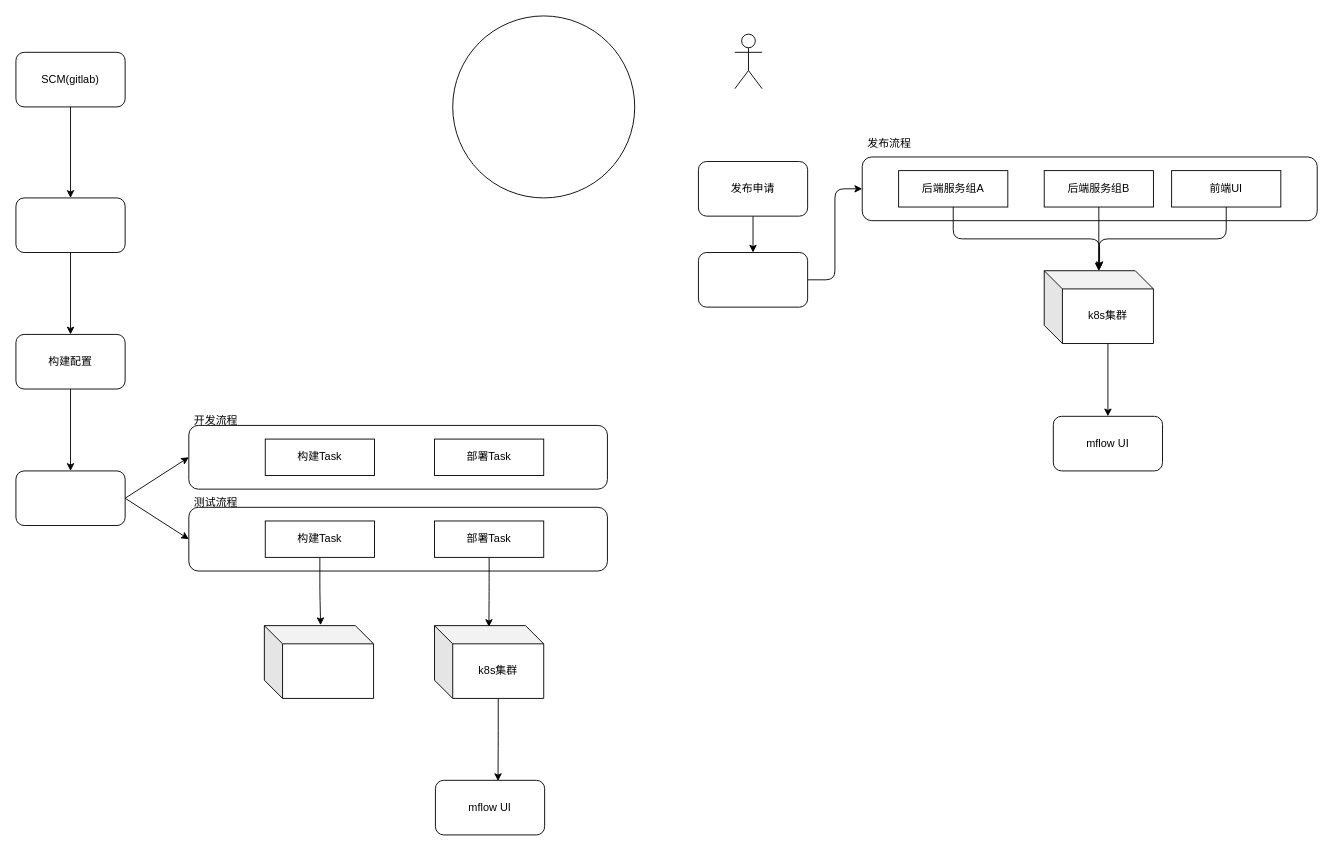
This 1333x851 diagram has some shape labels left out. Each missing label, with the centre of its shape:
"Actor" goes at (748,61).
"mcenter 应用中心" goes at (543,106).
"制品库" goes at (318,661).
"审核通过" goes at (753,279).
"构建流水线" goes at (70,498).
"构建触发器(WebHook)" goes at (70,225).
